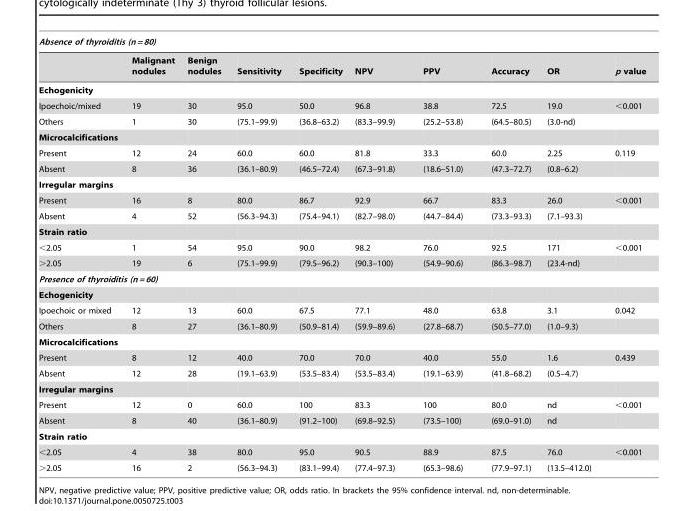table: (37, 37, 645, 472)
table column: (37, 37, 124, 472), (408, 37, 476, 472), (538, 37, 602, 472), (476, 37, 538, 472), (228, 37, 289, 472), (348, 37, 408, 472), (289, 37, 348, 472), (124, 37, 180, 472), (180, 37, 228, 472), (602, 37, 645, 472)
table column header: (37, 37, 645, 80)
table projected row header: (37, 80, 645, 97), (37, 129, 645, 145), (37, 176, 645, 192), (37, 223, 645, 239), (37, 286, 645, 302), (37, 428, 645, 444), (37, 271, 645, 286), (37, 334, 645, 349), (37, 381, 645, 396)
table row: (37, 50, 645, 80), (37, 80, 645, 97), (37, 97, 645, 113), (37, 113, 645, 129), (37, 129, 645, 145), (37, 160, 645, 176), (37, 176, 645, 192), (37, 192, 645, 208), (37, 223, 645, 239), (37, 239, 645, 255), (37, 255, 645, 271), (37, 286, 645, 302), (37, 302, 645, 318), (37, 318, 645, 334), (37, 349, 645, 365), (37, 365, 645, 381), (37, 396, 645, 412), (37, 412, 645, 428), (37, 428, 645, 444), (37, 145, 645, 160), (37, 208, 645, 223), (37, 271, 645, 286), (37, 334, 645, 349), (37, 381, 645, 396), (37, 444, 645, 459), (37, 37, 645, 50), (37, 459, 645, 472)
table spanning cell: (37, 37, 645, 50)
